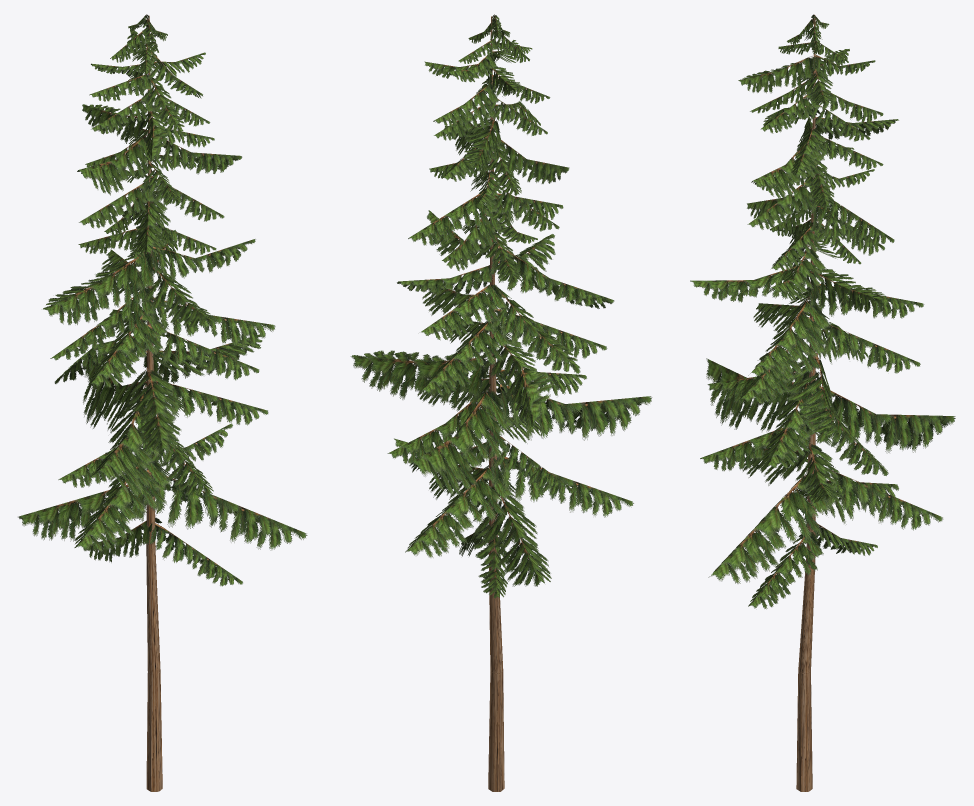
File: PineTreeA1(218)Tall.fbx
3 views of the same model, side by side, from view 1: azimuth 30°, elevation 25°; view 2: azimuth 150°, elevation 25°; view 3: azimuth 270°, elevation 25° (orthographic).
Visible parts, largest first — view 1: Branches, Branches2, PineTree; view 2: Branches, Branches2, PineTree; view 3: Branches, Branches2, PineTree.
Part boxes in pixels (x1,y1,x2,y2): Branches: [18, 182, 307, 586]; Branches2: [77, 14, 242, 258]; PineTree: [146, 15, 162, 791]; Branches: [350, 185, 652, 598]; Branches2: [408, 14, 569, 262]; PineTree: [488, 16, 504, 791]; Branches: [690, 192, 955, 609]; Branches2: [738, 14, 898, 264]; PineTree: [796, 18, 815, 791].
Size of the model in its own units: 473 by 1316 by 424.
2 materials, 2 textured.
